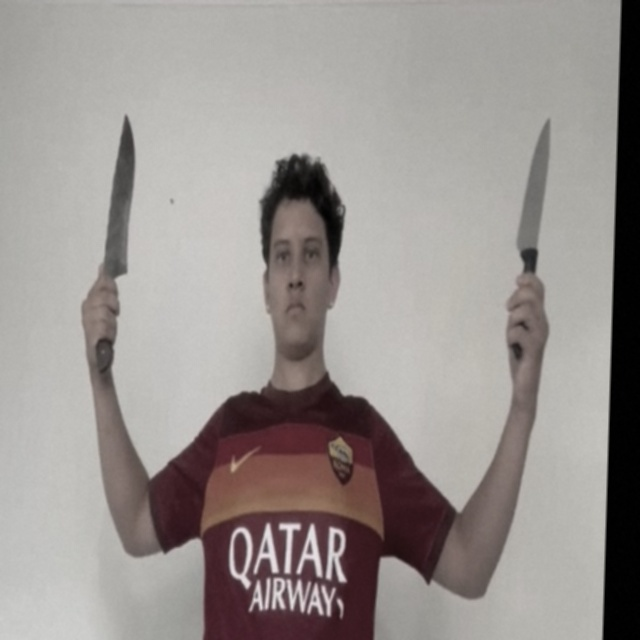Sharp-Object: (104, 112, 138, 282), (514, 117, 550, 256)
